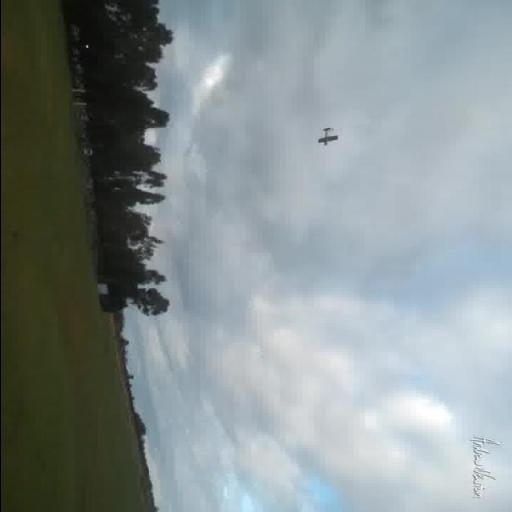uav: (314, 122, 346, 148)
